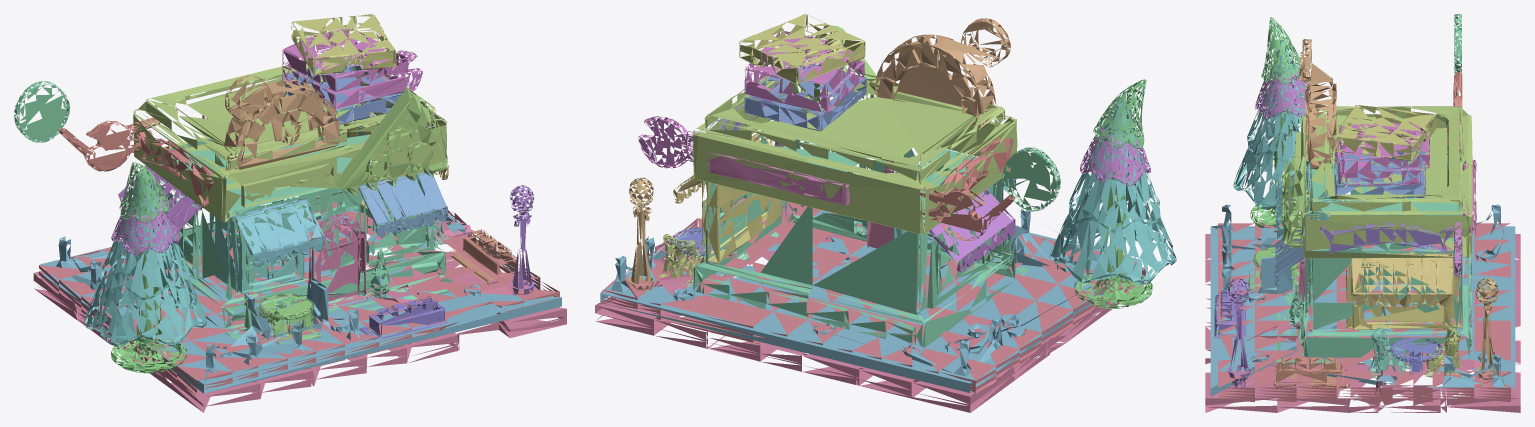
Rendered from 4.store.glb.
3 renders of one model, left to right at view 1: azimuth 30°, elevation 25°; view 2: azimuth 150°, elevation 25°; view 3: azimuth 270°, elevation 25°, orthographic. The views are drawn at different scales.
Parts seen in each view (by area): view 1: store__geometry_7_136, store__geometry_31, store__geometry_20_057, store__geometry_29, store__geometry_24_010, store__geometry_32, store__geometry_16_109, store__geometry_26_010, store__geometry_6_136, store__geometry_30, store__geometry_12_131, store__geometry_2_139 (+15 smaller); view 2: store__geometry_7_136, store__geometry_29, store__geometry_31, store__geometry_20_057, store__geometry_24_010, store__geometry_32, store__geometry_16_109, store__geometry_30, store__geometry_6_136, store__geometry_11_131, store__geometry_8_136, store__geometry_10_137 (+13 smaller); view 3: store__geometry_31, store__geometry_20_057, store__geometry_7_136, store__geometry_29, store__geometry_32, store__geometry_24_010, store__geometry_23_028, store__geometry_30, store__geometry_11_131, store__geometry_6_136, store__geometry_16_109, store__geometry_8_136 (+21 smaller).
Boxes of the visible parts, <box> form: store__geometry_7_136: <box>133,53,447,222</box>; store__geometry_31: <box>40,188,561,393</box>; store__geometry_20_057: <box>39,197,559,395</box>; store__geometry_29: <box>135,105,452,339</box>; store__geometry_24_010: <box>84,172,206,347</box>; store__geometry_32: <box>33,207,566,412</box>; store__geometry_16_109: <box>224,75,339,169</box>; store__geometry_26_010: <box>320,86,447,195</box>; store__geometry_6_136: <box>282,29,408,109</box>; store__geometry_30: <box>291,14,396,75</box>; store__geometry_12_131: <box>235,198,324,266</box>; store__geometry_2_139: <box>358,171,447,237</box>; store__geometry_7_136: <box>692,60,1017,234</box>; store__geometry_29: <box>692,131,1030,347</box>; store__geometry_31: <box>600,198,1139,392</box>; store__geometry_20_057: <box>600,198,1136,395</box>; store__geometry_24_010: <box>1050,97,1176,284</box>; store__geometry_32: <box>595,198,1145,412</box>; store__geometry_16_109: <box>875,18,1010,128</box>; store__geometry_30: <box>739,14,865,84</box>; store__geometry_6_136: <box>744,31,864,113</box>; store__geometry_11_131: <box>702,137,781,263</box>; store__geometry_8_136: <box>744,62,866,131</box>; store__geometry_10_137: <box>923,187,1015,272</box>; store__geometry_31: <box>1210,204,1515,396</box>; store__geometry_20_057: <box>1218,223,1510,402</box>; store__geometry_7_136: <box>1294,106,1472,258</box>; store__geometry_29: <box>1276,156,1471,364</box>; store__geometry_32: <box>1205,234,1520,412</box>; store__geometry_24_010: <box>1233,39,1344,210</box>; store__geometry_23_028: <box>1351,253,1452,307</box>; store__geometry_30: <box>1332,105,1435,161</box>; store__geometry_11_131: <box>1346,251,1460,329</box>; store__geometry_6_136: <box>1336,121,1429,185</box>; store__geometry_16_109: <box>1298,39,1336,169</box>; store__geometry_8_136: <box>1334,149,1425,198</box>.
Bounding box in the file's own units: 1 × 0.6102 × 0.6894.
